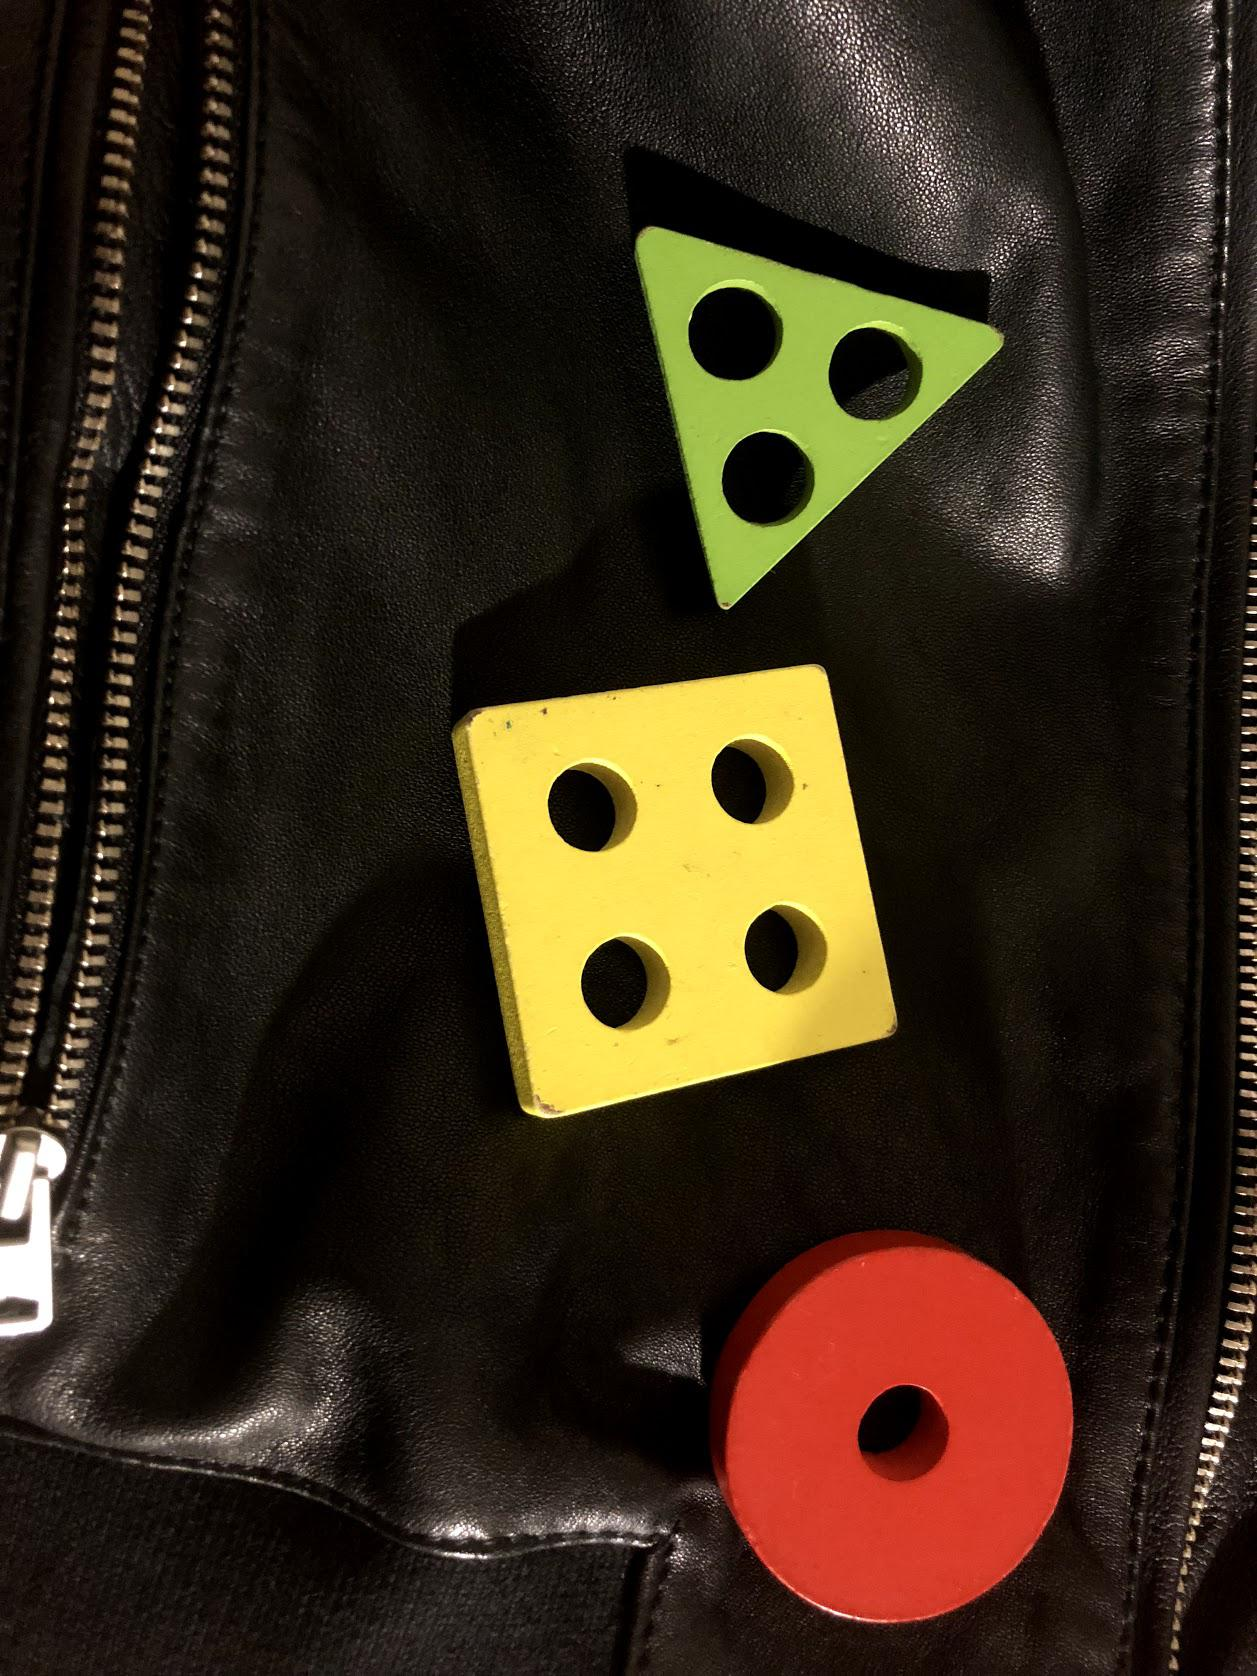Circle: (706, 1237, 1080, 1631)
Square: (452, 664, 903, 1119)
Triangle: (625, 223, 1009, 623)
